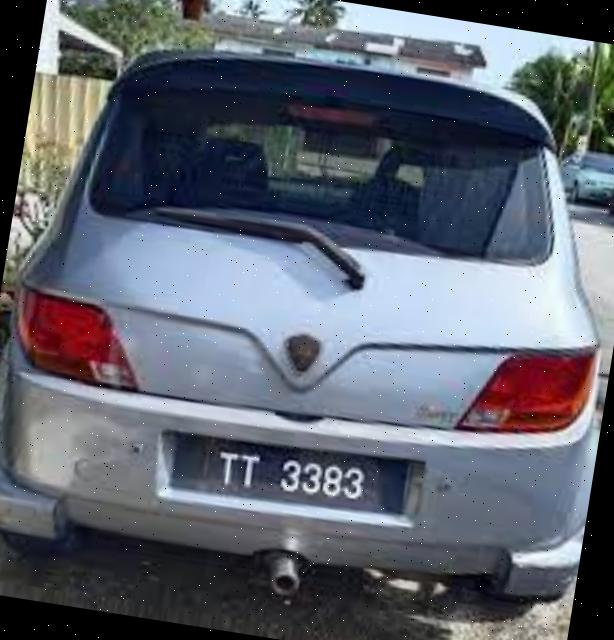License_Plate: (146, 422, 447, 547)
car: (1, 38, 614, 637)
